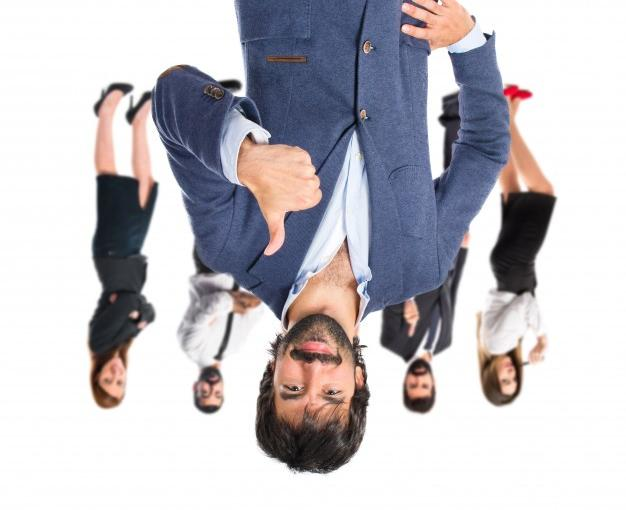thumbsdown: (261, 144, 323, 256)
